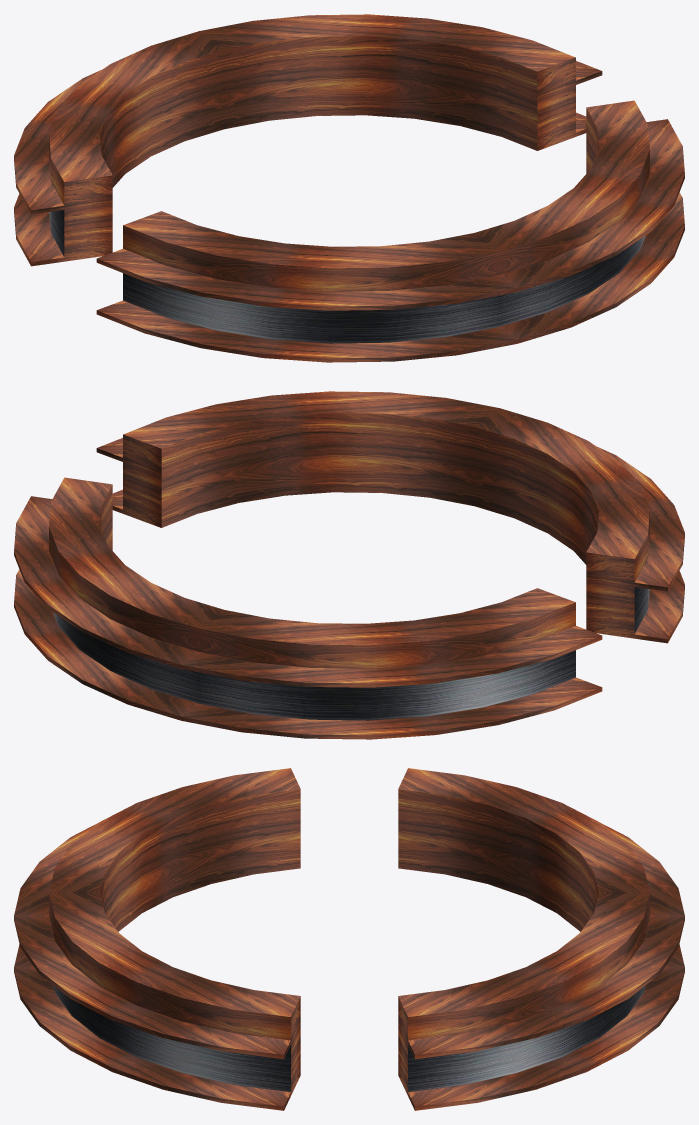
Rendered from bar_table.glb.
3 renders of one model, top to bottom at view 1: azimuth 30°, elevation 25°; view 2: azimuth 150°, elevation 25°; view 3: azimuth 270°, elevation 25°, orthographic.
Visible parts, largest first — view 1: Bar Table; view 2: Bar Table; view 3: Bar Table.
Part boxes in pixels (x1,y1,x2,y2): Bar Table: (14, 14, 684, 362); Bar Table: (14, 391, 684, 739); Bar Table: (14, 768, 684, 1110).
Size of what is drawn, in the model's own units: 9.81 by 1.3 by 10.
1 material, 1 textured.
